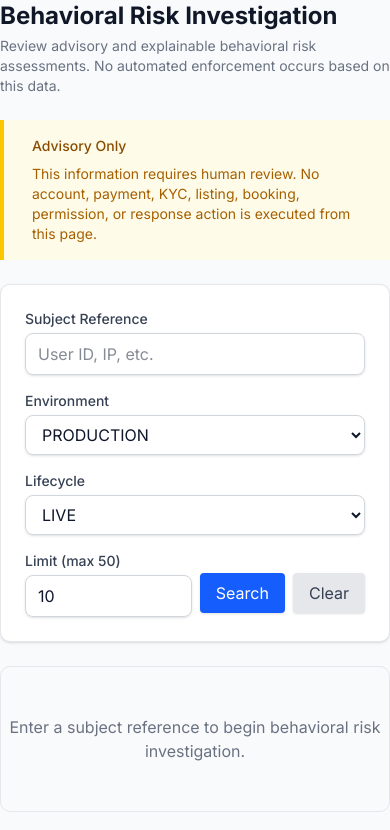
Test: Behavioral Risk Investigation Dashboard (Slice 4) › Client Interactions and Validation › 22. Stale request result cannot overwrite a newer search
Type "u1" into the field labelled "Subject Reference" at (195, 354), box [25,333,365,375]
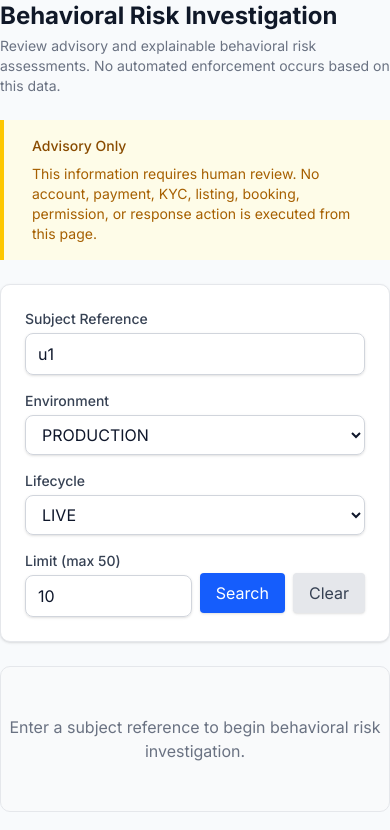
Submit the form "Search", box [0,284,389,642]
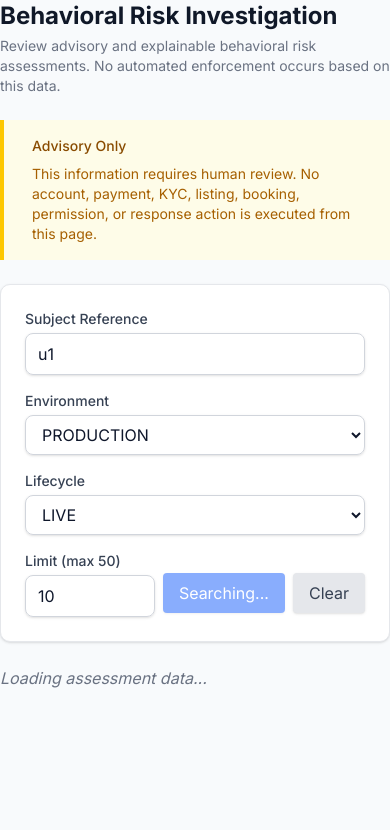
Submit the form "Search", box [0,284,389,642]
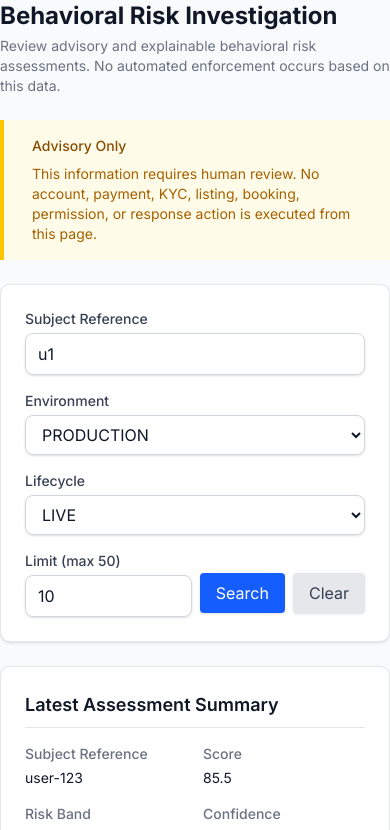
Result: the heading "Latest Assessment Summary" is shown at [25,691,365,728]
